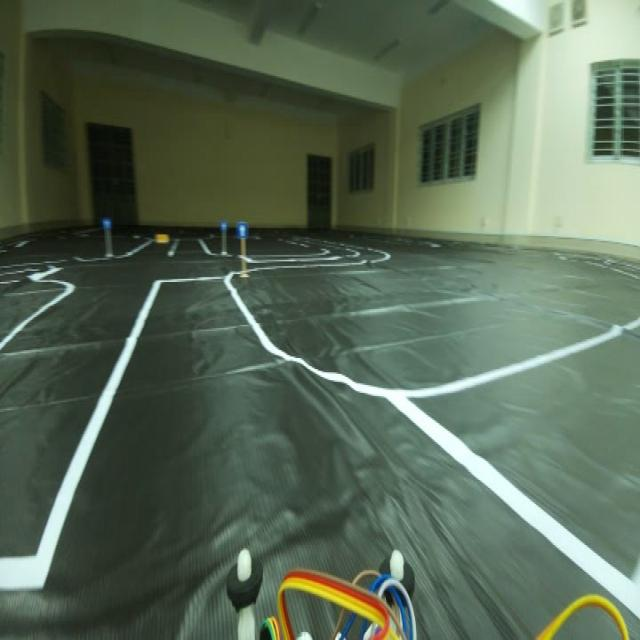onewayroad: (218, 215, 229, 238), (236, 220, 249, 238), (104, 214, 114, 230)
roadblock: (155, 227, 174, 245)
